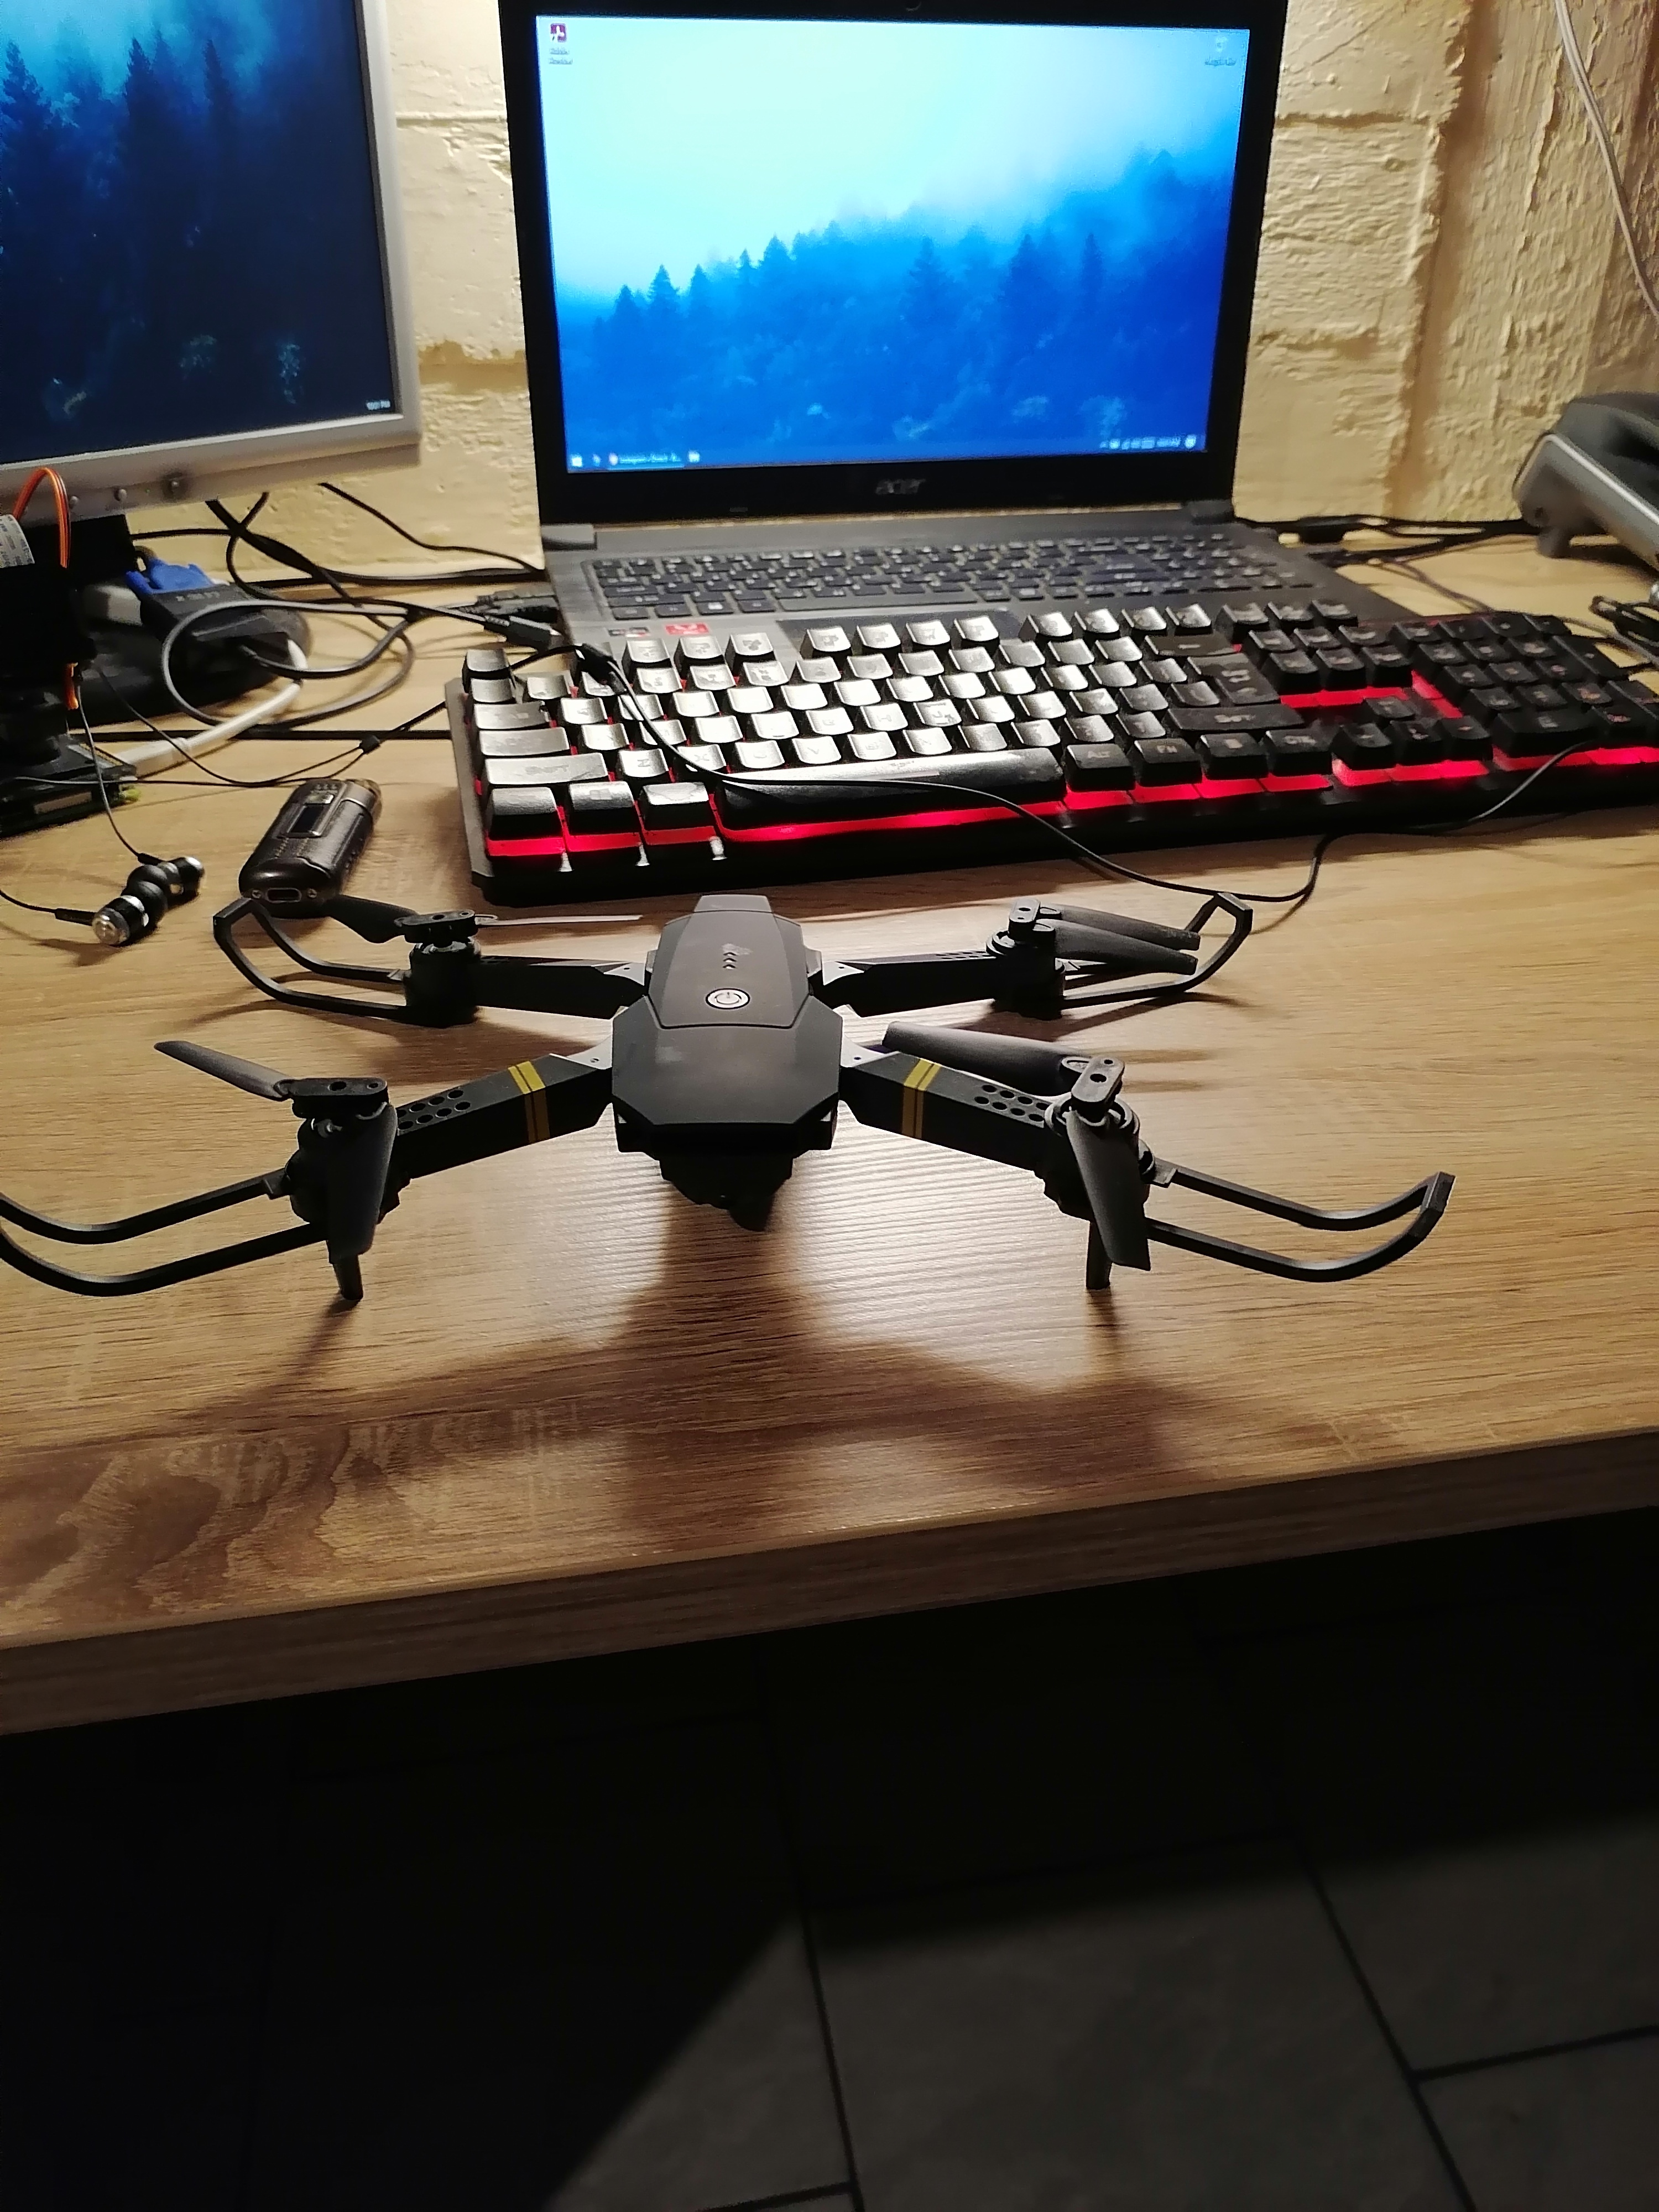drone: (181, 878, 1419, 1390)
